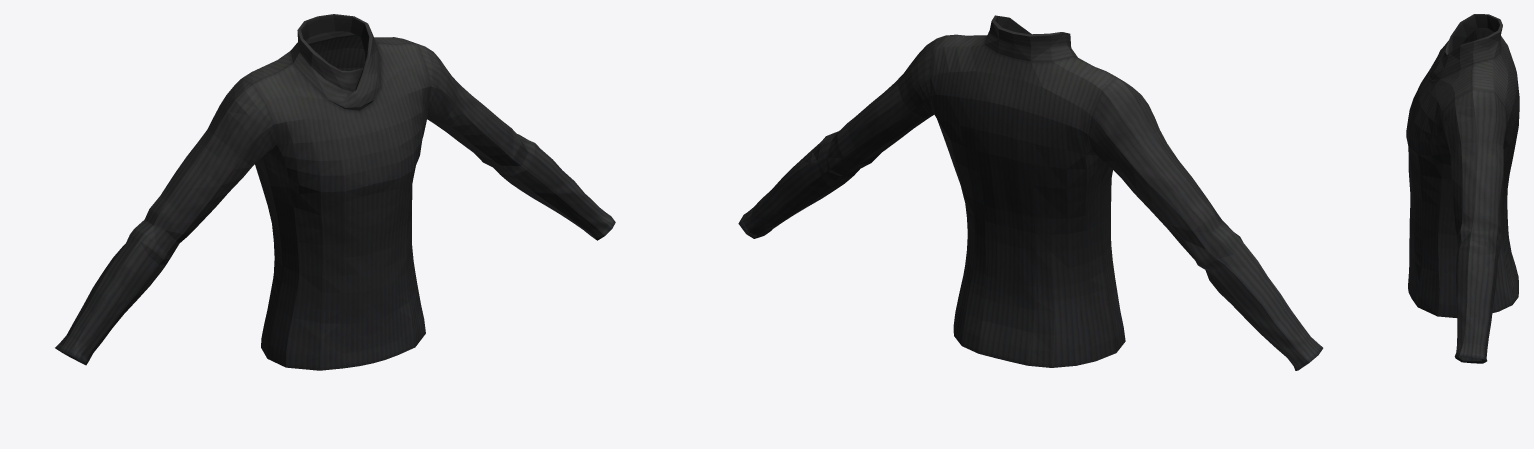
File: Folded_Collar_Sweater.obj
3 views of the same model, side by side, from view 1: azimuth 30°, elevation 25°; view 2: azimuth 150°, elevation 25°; view 3: azimuth 270°, elevation 25° (orthographic). The views are drawn at different scales.
Parts seen in each view (by area): view 1: s4studio_mesh_2_geom.005, s4studio_mesh_3_geom.006, s4studio_mesh_5_geom.008, s4studio_mesh_6_geom.009, s4studio_mesh_4_geom.007, s4studio_mesh_1_geom.004; view 2: s4studio_mesh_2_geom.005, s4studio_mesh_5_geom.008, s4studio_mesh_6_geom.009, s4studio_mesh_4_geom.007, s4studio_mesh_1_geom.004, s4studio_mesh_3_geom.006; view 3: s4studio_mesh_2_geom.005, s4studio_mesh_6_geom.009, s4studio_mesh_4_geom.007, s4studio_mesh_3_geom.006.
Part boxes in pixels (<box>): s4studio_mesh_2_geom.005: <box>93,35,552,370</box>; s4studio_mesh_3_geom.006: <box>290,14,381,110</box>; s4studio_mesh_5_geom.008: <box>160,118,257,226</box>; s4studio_mesh_6_geom.009: <box>427,71,505,155</box>; s4studio_mesh_4_geom.007: <box>522,160,615,240</box>; s4studio_mesh_1_geom.004: <box>55,288,124,365</box>; s4studio_mesh_2_geom.005: <box>799,34,1280,367</box>; s4studio_mesh_5_geom.008: <box>1104,118,1207,228</box>; s4studio_mesh_6_geom.009: <box>848,66,933,155</box>; s4studio_mesh_4_geom.007: <box>738,153,831,238</box>; s4studio_mesh_1_geom.004: <box>1246,293,1323,370</box>; s4studio_mesh_3_geom.006: <box>984,15,1077,61</box>; s4studio_mesh_2_geom.005: <box>1406,29,1519,317</box>; s4studio_mesh_6_geom.009: <box>1449,132,1504,215</box>; s4studio_mesh_4_geom.007: <box>1454,269,1496,363</box>; s4studio_mesh_3_geom.006: <box>1429,14,1502,81</box>.
Bounding box in the file's own units: 1.44 × 0.6937 × 0.2557.
